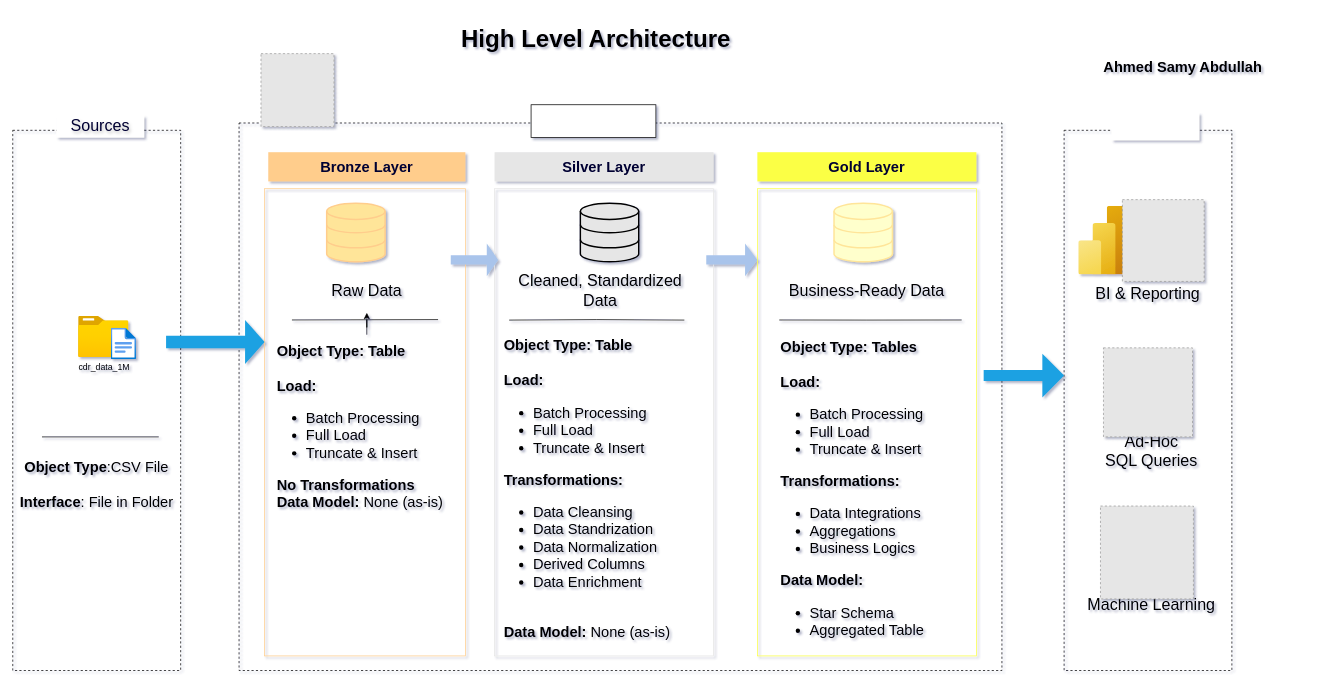
The diagram is 1326 pixels wide and 694 high, and some of its shapes have lost their labels. Grey dashed boxes stand in for pictures. The centre of each missing label's shape, as x and y in pixels:
Consume: the point at 1155,126
Data Warehouse: the point at 593,121
